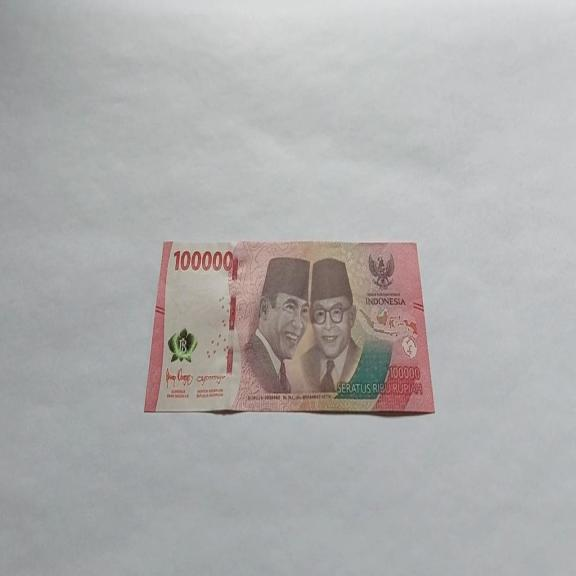Kertas: (144, 238, 436, 416)
